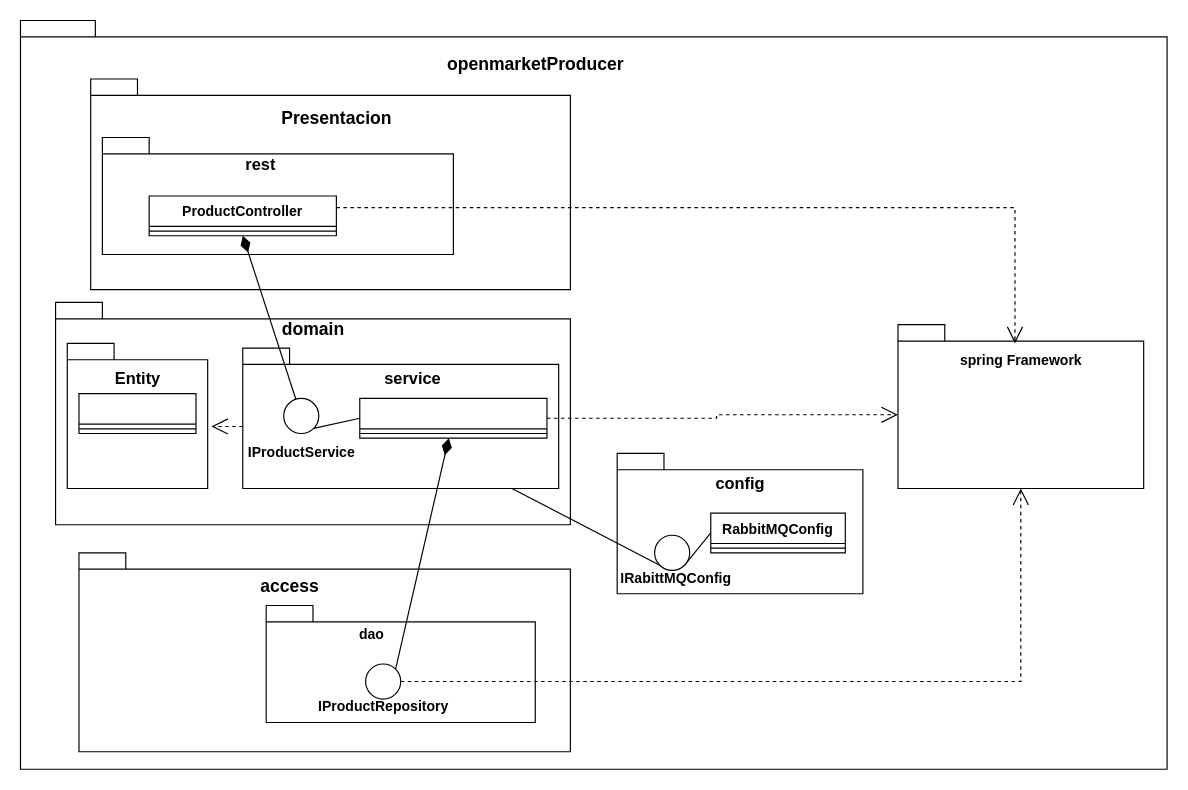
Some shapes in this 1188 by 790 pixel diagram are drawn without their labels. Here are the shapes that lost their labels. From the top down, the centre of each, then its label:
At point (137, 413): "Product".
At point (453, 417): "ProductServiceImpl".
